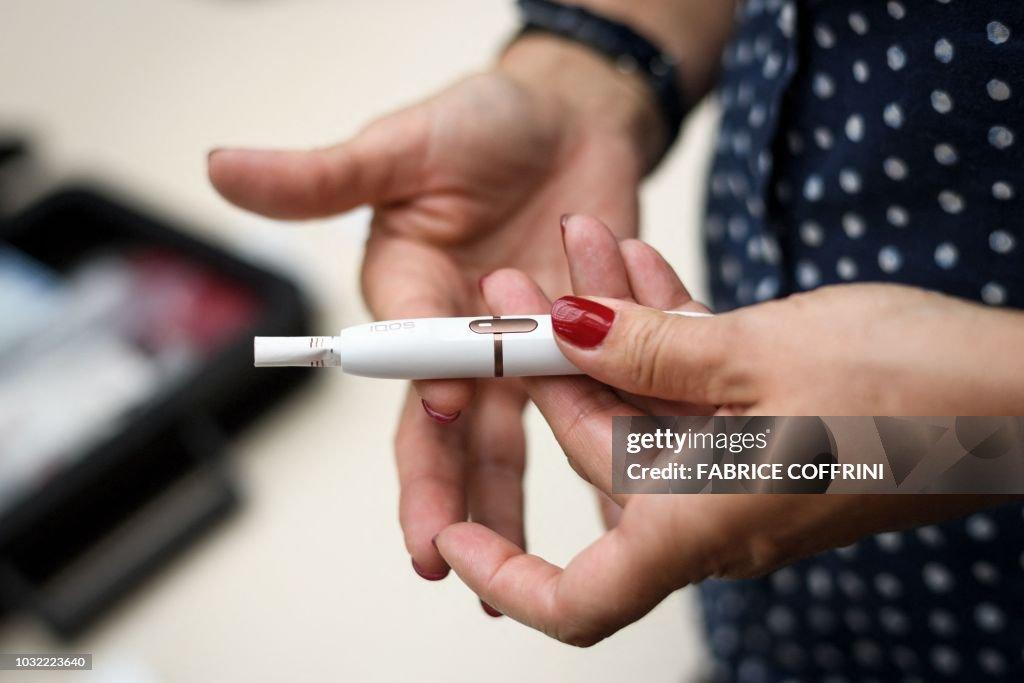iqos: (254, 314, 581, 379)
